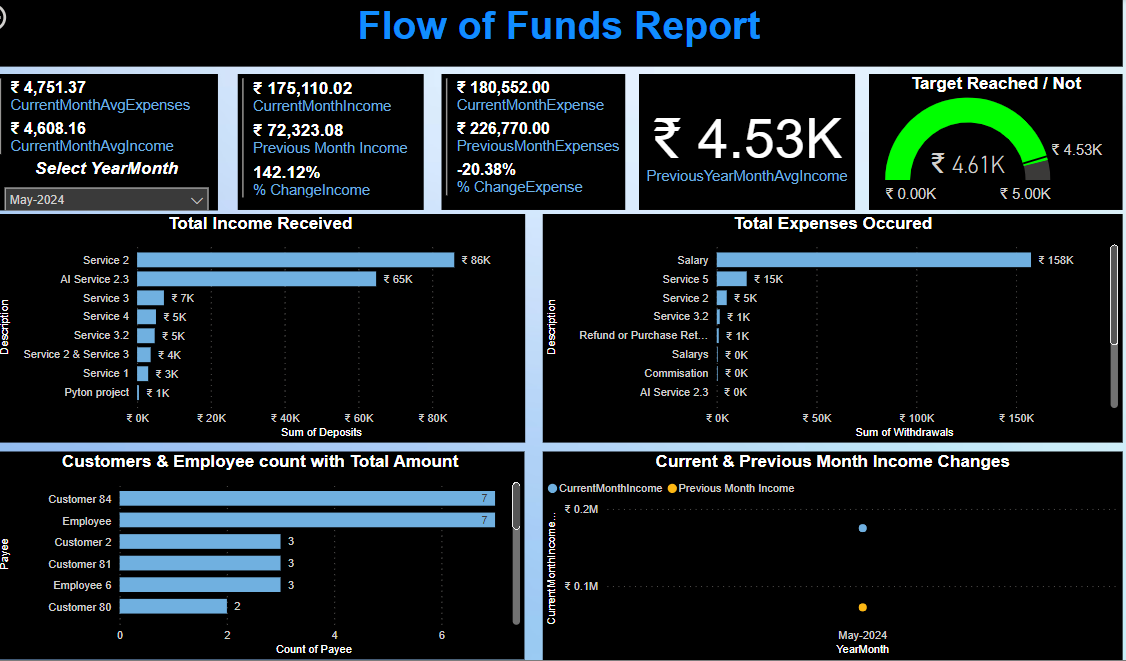

What the dashboard file says about the page in this screenshot:
{"tool":"powerbi","page":{"name":"Page 1","canvas":[1280,720],"ordinal":0},"visuals":[{"type":"textbox","box":[23.1,0,1227.2,73.5],"z":0},{"type":"gauge","title":"Target Reached / Not","fields":{"TargetValue":["Income and Expenses(Raw Data).PreviousYearMonthAvgIncome"],"Y":["Income and Expenses(Raw Data).CurrentMonthAvgIncome"]},"box":[974.2,81.6,276.2,148.3],"z":1000},{"type":"multiRowCard","fields":{"Values":["Income and Expenses(Raw Data).CurrentMonthIncome","Income and Expenses(Raw Data).PreviousMonthIncome","Income and Expenses(Raw Data).% ChangeIncome"]},"box":[287.1,81.6,202.7,148.3],"z":2000},{"type":"multiRowCard","fields":{"Values":["Income and Expenses(Raw Data).CurrentMonthExpense","Income and Expenses(Raw Data).PreviousMonthExpenses","Income and Expenses(Raw Data).% ChangeExpense"]},"box":[508.8,81.6,200,148.3],"z":3000},{"type":"card","fields":{"Values":["Income and Expenses(Raw Data).PreviousYearMonthAvgIncome"]},"box":[723.8,81.6,235.4,148.3],"z":4000},{"type":"actionButton","box":[0,0,100,40],"z":5000},{"type":"slicer","title":"Select YearMonth","fields":{"Values":["DateTable.YearMonth"]},"box":[23.1,174.2,242.2,55.8],"z":6000},{"type":"multiRowCard","fields":{"Values":["Income and Expenses(Raw Data).CurrentMonthAvgExpenses","Income and Expenses(Raw Data).CurrentMonthAvgIncome"]},"box":[23.1,81.6,242.2,92.5],"z":7000},{"type":"clusteredBarChart","title":"Total Income Received ","fields":{"Y":["Sum(Income and Expenses(Raw Data).Deposits)"],"Category":["Income and Expenses(Raw Data).Day Name","Income and Expenses(Raw Data).Month Name","Income and Expenses(Raw Data).year","Income and Expenses(Raw Data).Description","Income and Expenses(Raw Data).Payee"]},"box":[23.1,234,576.9,249],"z":8000},{"type":"clusteredBarChart","title":"Total Expenses Occured","fields":{"Y":["Sum(Income and Expenses(Raw Data).Withdrawals)"],"Category":["Income and Expenses(Raw Data).Description","Income and Expenses(Raw Data).year","Income and Expenses(Raw Data).Month Name","Income and Expenses(Raw Data).Day Name"]},"box":[619,234,631.3,249],"z":9000},{"type":"lineChart","title":"Current & Previous Month Income Changes","fields":{"Y":["Income and Expenses(Raw Data).CurrentMonthIncome","Income and Expenses(Raw Data).PreviousMonthIncome"],"Category":["DateTable.Year","Income and Expenses(Raw Data).Month Name","DateTable.YearMonth"]},"box":[619,492.5,631.3,227.2],"z":10000},{"type":"clusteredBarChart","title":"Customers & Employee count with Total Amount","fields":{"Category":["Income and Expenses(Raw Data).Payee"],"Y":["CountNonNull(Income and Expenses(Raw Data).Payee)"]},"box":[23.6,493.1,576.4,226.4],"z":11000}]}

Visuals, with their boxes in screenshot pixels (x1, y1, x2, y2):
textbox: <bbox>0, 0, 1119, 63</bbox>
"Target Reached / Not" gauge: <bbox>861, 70, 1119, 209</bbox>
multiRowCard - Income and Expenses(Raw Data).CurrentMonthIncome x Income and Expenses(Raw Data).PreviousMonthIncome: <bbox>221, 70, 410, 209</bbox>
multiRowCard - Income and Expenses(Raw Data).CurrentMonthExpense x Income and Expenses(Raw Data).PreviousMonthExpenses: <bbox>428, 70, 614, 209</bbox>
card - Income and Expenses(Raw Data).PreviousYearMonthAvgIncome: <bbox>628, 70, 848, 209</bbox>
actionButton: <bbox>0, 0, 46, 31</bbox>
"Select YearMonth" slicer: <bbox>0, 157, 200, 209</bbox>
multiRowCard - Income and Expenses(Raw Data).CurrentMonthAvgExpenses x Income and Expenses(Raw Data).CurrentMonthAvgIncome: <bbox>0, 70, 200, 156</bbox>
"Total Income Received " clusteredBarChart: <bbox>0, 212, 513, 445</bbox>
"Total Expenses Occured" clusteredBarChart: <bbox>530, 212, 1119, 445</bbox>
"Current & Previous Month Income Changes" lineChart: <bbox>530, 453, 1119, 660</bbox>
"Customers & Employee count with Total Amount" clusteredBarChart: <bbox>0, 454, 513, 660</bbox>
